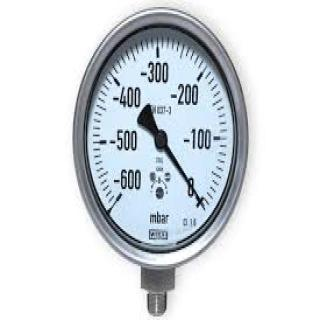gauge: (72, 1, 250, 291), (188, 188, 212, 214), (109, 182, 131, 208), (154, 130, 168, 150), (200, 204, 208, 213)
